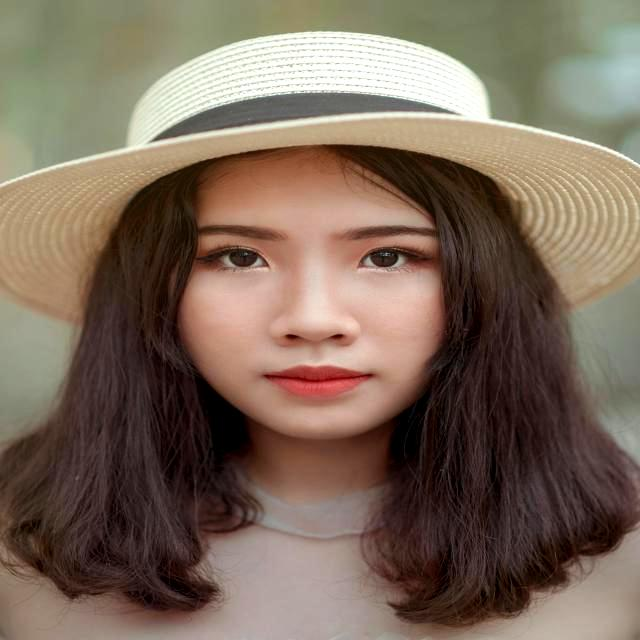no_hard_hat: (1, 32, 640, 321)
person: (1, 33, 640, 640)
